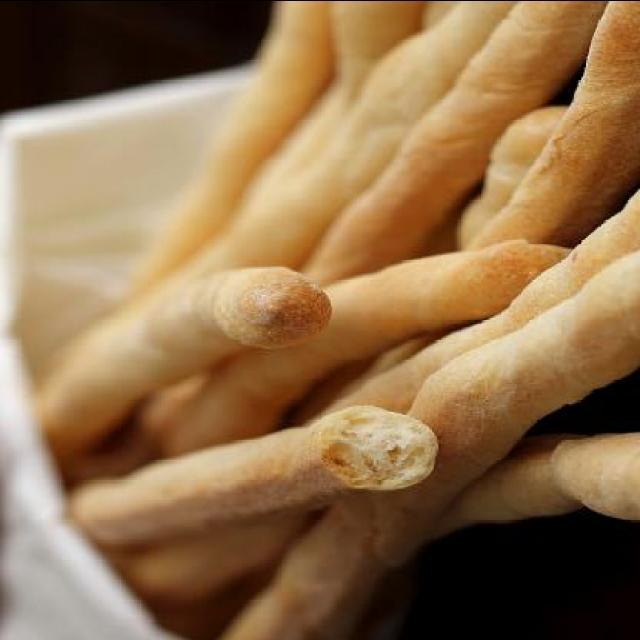Grissini: (86, 11, 637, 614)
